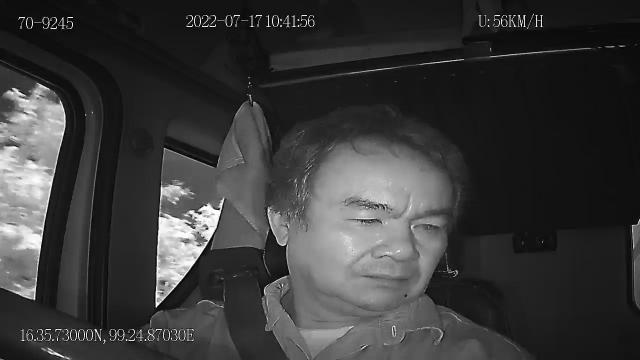SafeDriving: (338, 204, 390, 233), (406, 212, 450, 238)
Seatbelt: (221, 272, 289, 360)
